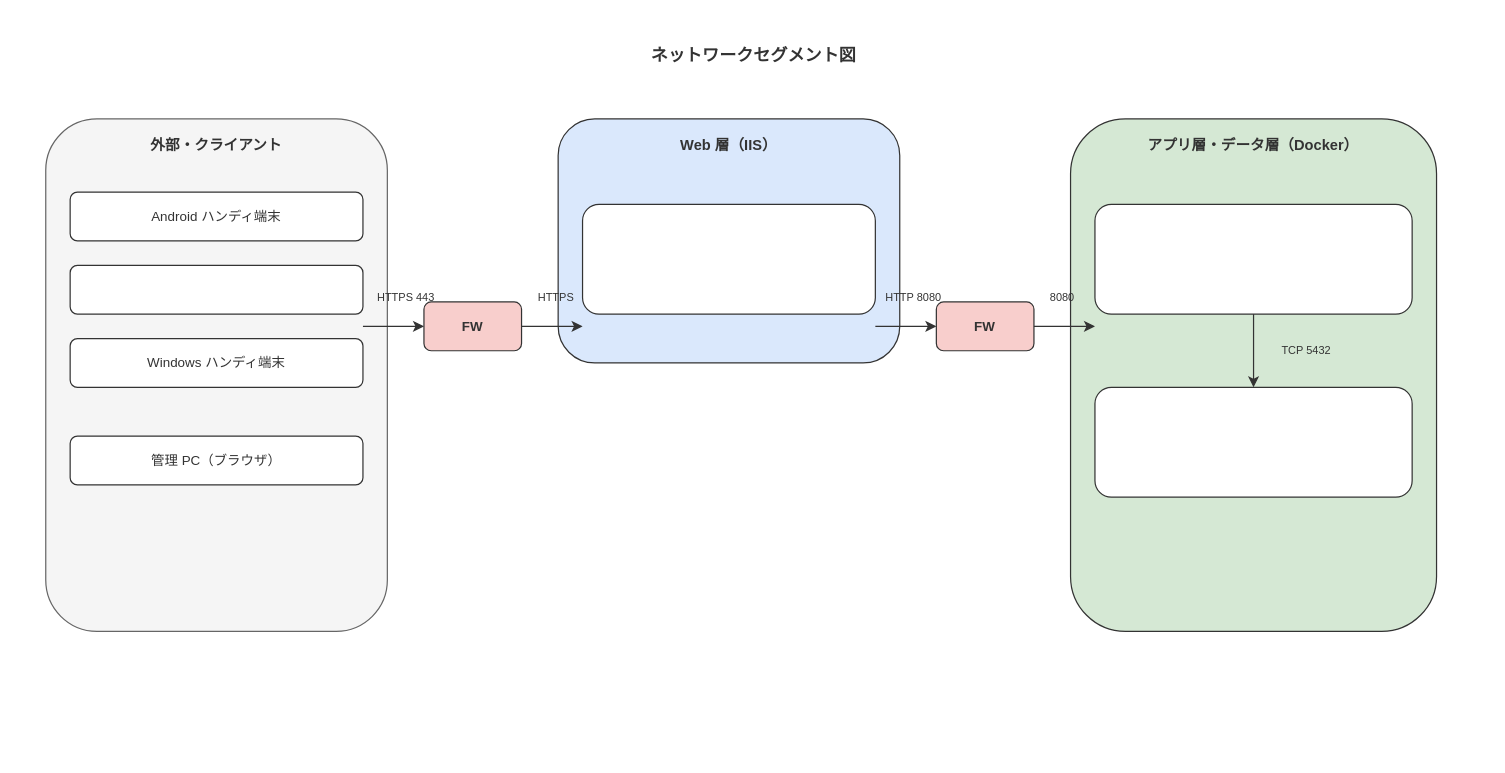
Image size: 1505x773. Some labels were removed from this diagram. The centre of each missing label's shape, as x and y in pixels:
"axum バックエンド （Rust + tokio） ポート 8080 （localhost のみ）" belongs at [1253,258].
"IIS React マスタメンテ ポート 443（HTTPS / TLS）" belongs at [728,258].
"iOS ハンディ端末" belongs at [216,289].
"PostgreSQL ポート 5432 （127.0.0.1 のみ / Docker 内部）" belongs at [1253,441].
